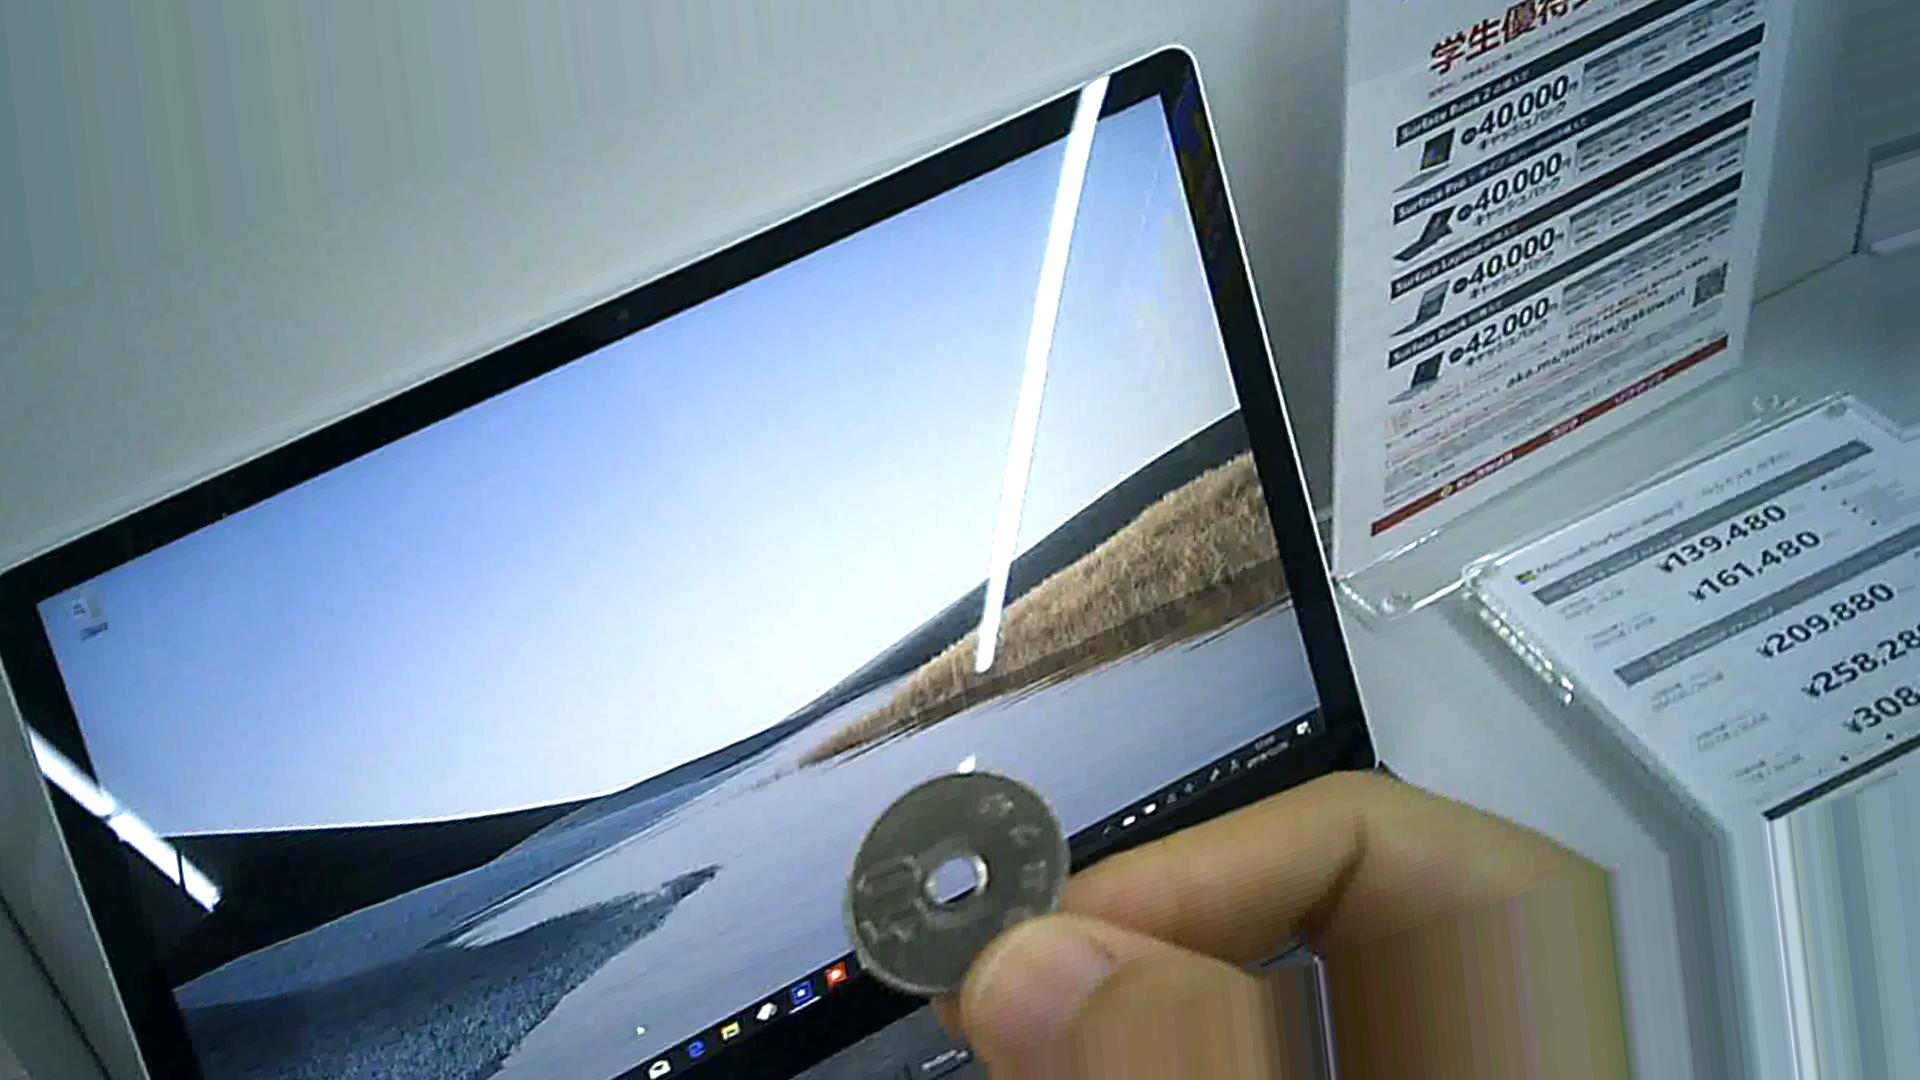50 Yen: (829, 770, 1075, 969)
